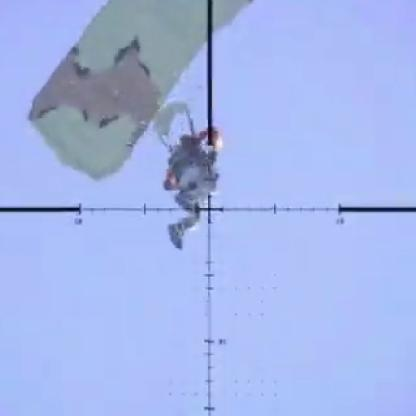enemy: (159, 122, 222, 252)
